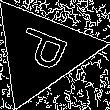P_SE: (9, 24, 74, 78)
